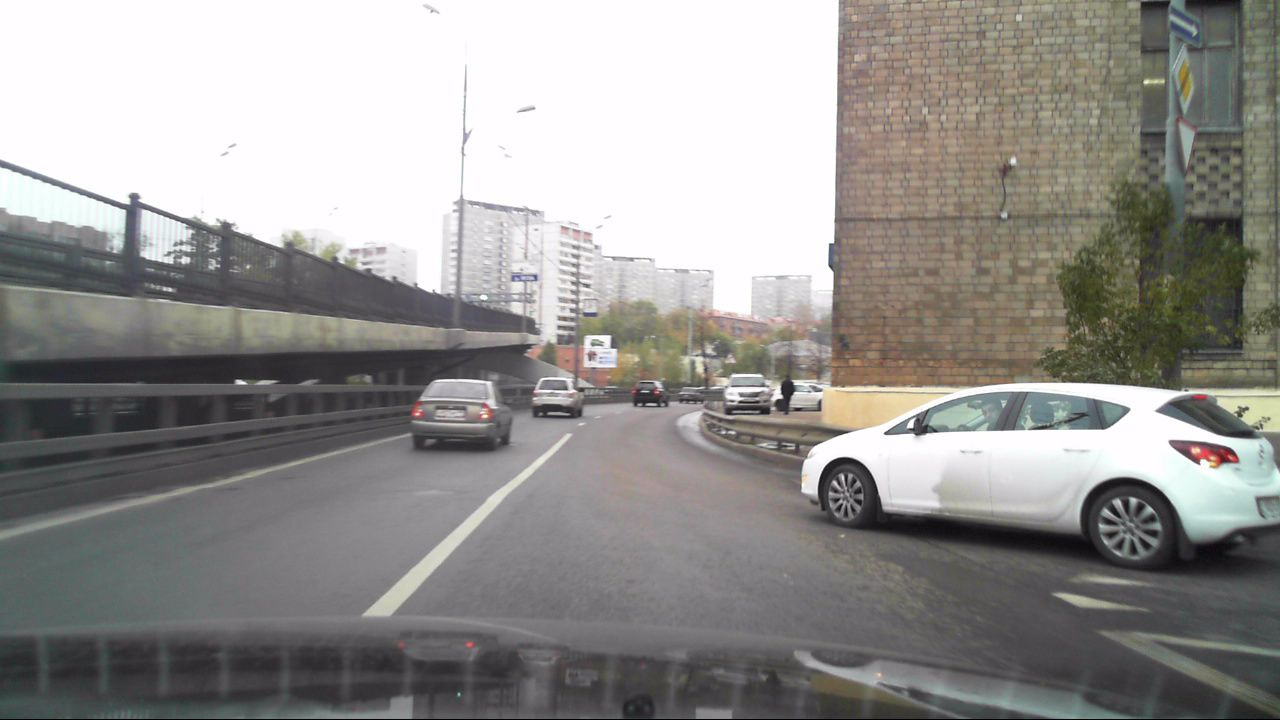main road: (1163, 47, 1202, 115)
